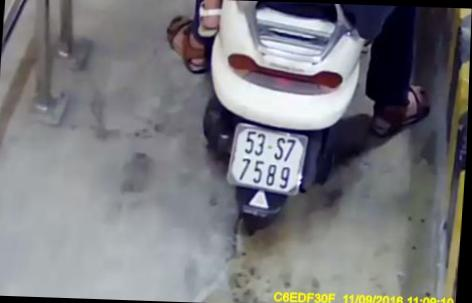LP: (225, 120, 312, 196)
